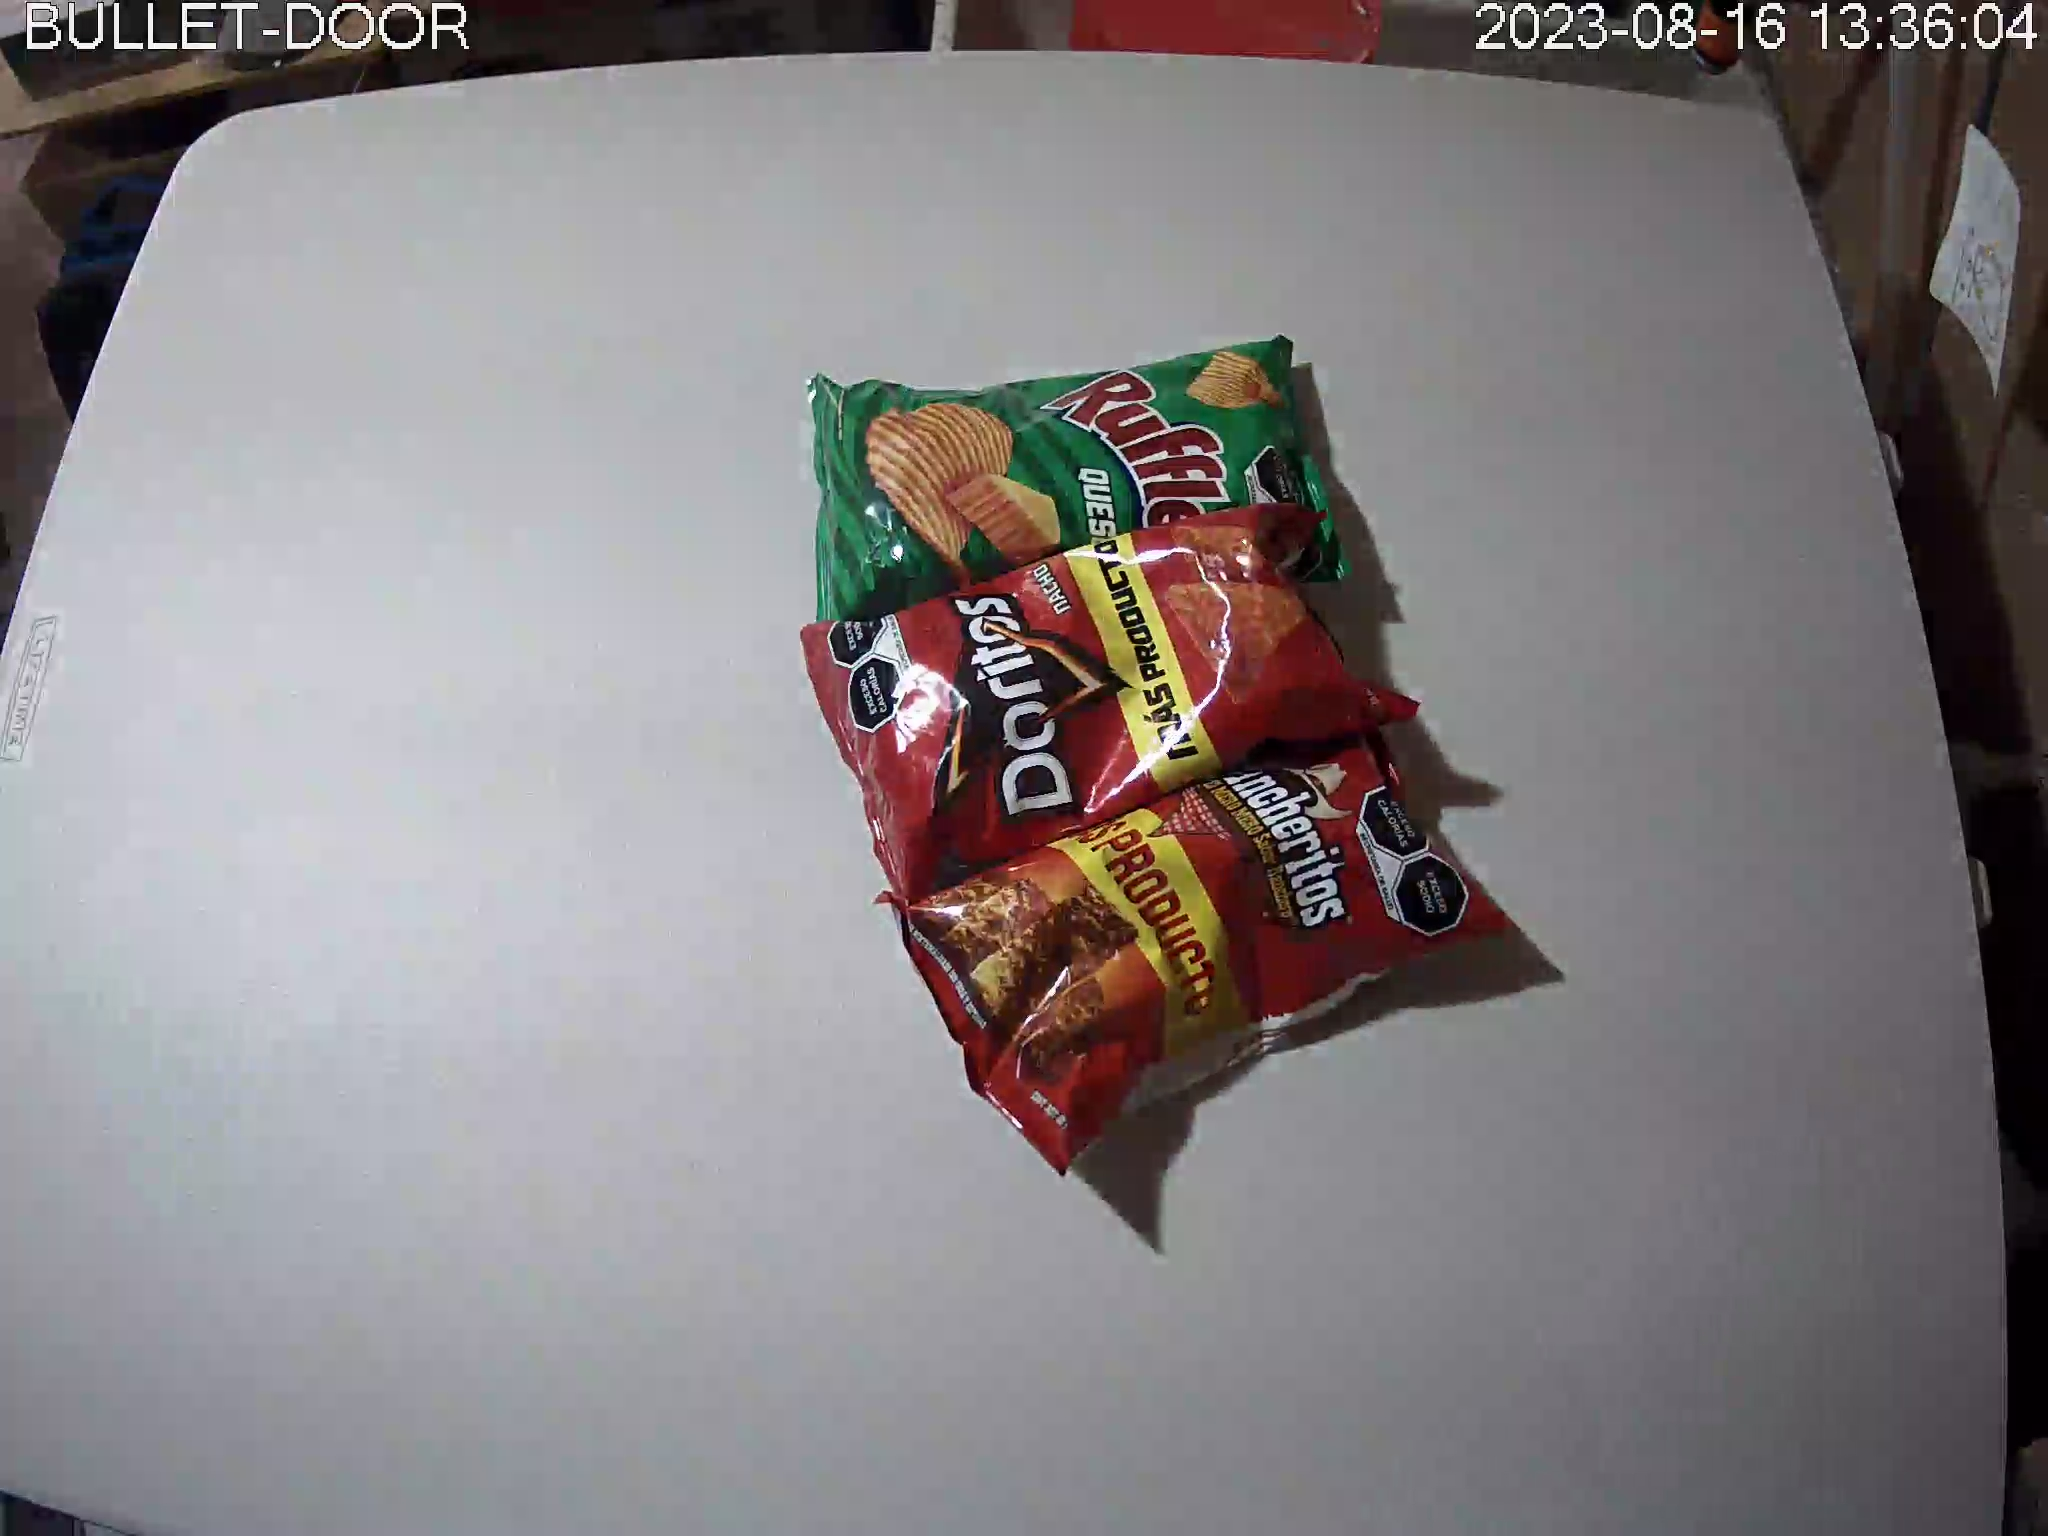DoritosN_61_F: (800, 503, 1424, 916)
Rancheritos_58_F: (871, 723, 1524, 1179)
RufflesQ_48_F: (808, 331, 1355, 628)
